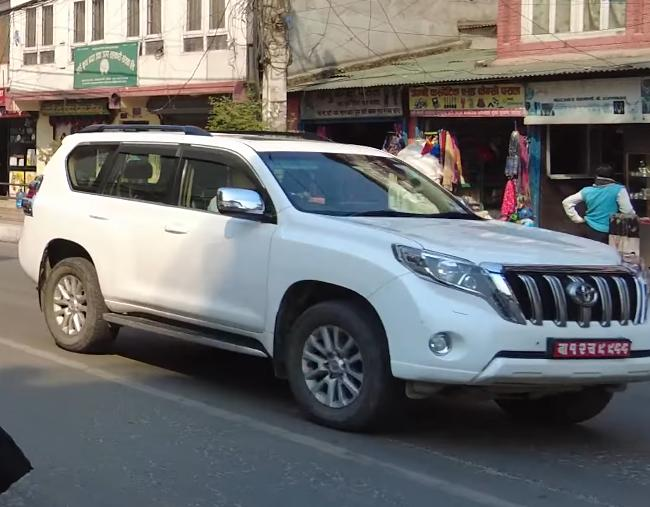SUV: (12, 118, 650, 434)
